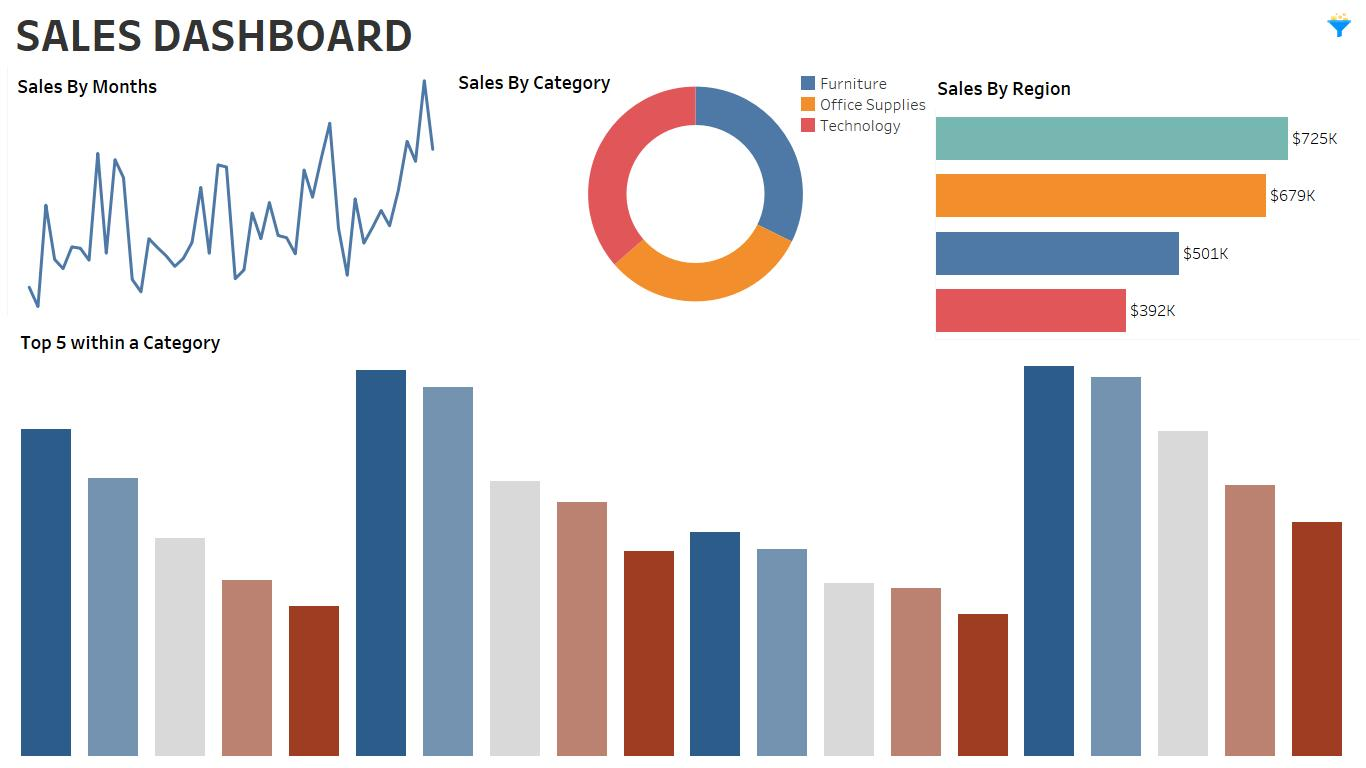

What the dashboard file says about the page in this screenshot:
{"tool":"tableau","page":{"name":"Dashboard 1","canvas":[1366,768],"ordinal":0},"visuals":[{"type":"title","box":[8,8,1350,50]},{"type":"filter","title":"Sales By Region","param":"[federated.0aw5ehd09f9yhf184j1wt1nqjco8].[none:Region:nk]","box":[1200,11,126,60]},{"type":"dashboard-object","box":[1327,13,24,24]},{"type":"worksheet","title":"Sales over Months","mark":"Automatic","rows":["Sales"],"cols":["Order Date"],"box":[3,63,455,256]},{"type":"text","box":[455,67,205,30]},{"type":"worksheet","title":"Sales By Category","mark":"Pie","rows":["Calculation_808959083581837314","Calculation_808959083581874180"],"box":[458,68,475,252]},{"type":"text","box":[14,71,151,30]},{"type":"filter","title":"Sales By Category","param":"[federated.0aw5ehd09f9yhf184j1wt1nqjco8].[none:Category:nk]","box":[1200,71,126,60]},{"type":"legend","title":"Sales By Category","param":"[federated.0aw5ehd09f9yhf184j1wt1nqjco8].[none:Category:nk]","box":[798,73,136,65]},{"type":"text","box":[934,73,141,30]},{"type":"worksheet","title":"Sales By Region","mark":"Automatic","rows":["Region"],"cols":["Sales"],"box":[935,110,425,229]},{"type":"text","box":[17,327,259,30]},{"type":"worksheet","title":"Top 5 within a category","mark":"Automatic","rows":["Sales"],"cols":["Region","Sub-Category"],"box":[9,342,1345,418]}]}

Visuals, with their boxes in screenshot pixels (x1, y1, x2, y2), scaled from the page's 1366x768 canvas onto the 1366x768 screenshot:
title: bbox=(8, 8, 1358, 58)
"Sales By Region" filter: bbox=(1200, 11, 1326, 71)
dashboard-object: bbox=(1327, 13, 1351, 37)
"Sales over Months" worksheet: bbox=(3, 63, 458, 319)
text: bbox=(455, 67, 660, 97)
"Sales By Category" worksheet (Pie marks): bbox=(458, 68, 933, 320)
text: bbox=(14, 71, 165, 101)
"Sales By Category" filter: bbox=(1200, 71, 1326, 131)
"Sales By Category" legend: bbox=(798, 73, 934, 138)
text: bbox=(934, 73, 1075, 103)
"Sales By Region" worksheet: bbox=(935, 110, 1360, 339)
text: bbox=(17, 327, 276, 357)
"Top 5 within a category" worksheet: bbox=(9, 342, 1354, 760)
